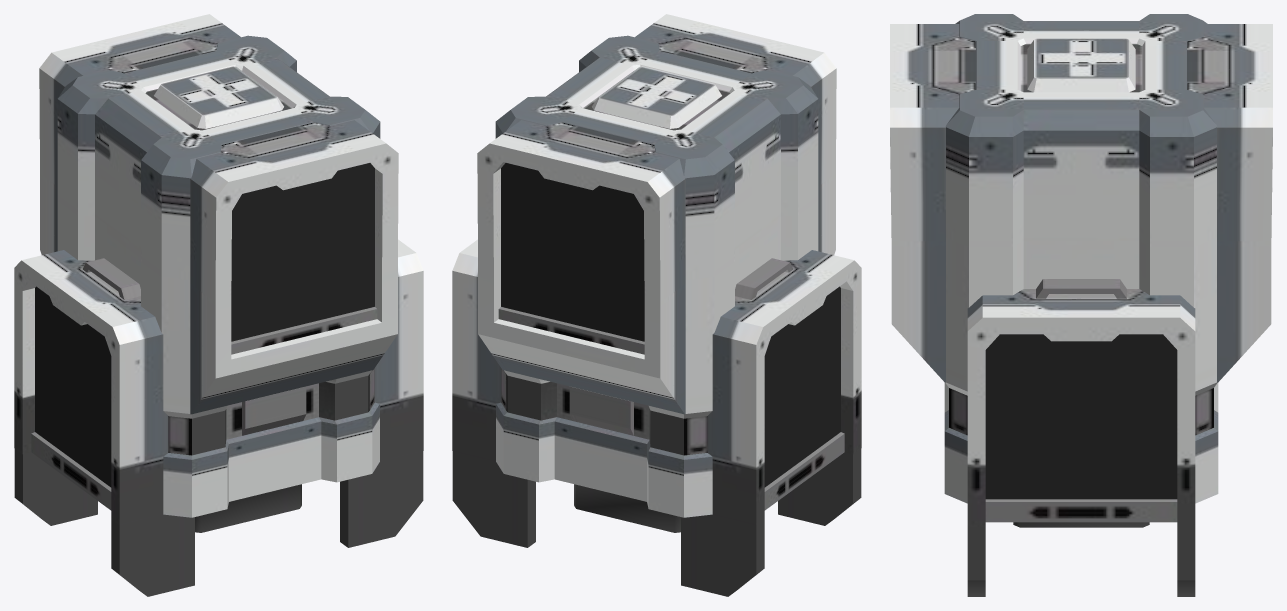
3 renders of one model, left to right at view 1: azimuth 30°, elevation 25°; view 2: azimuth 150°, elevation 25°; view 3: azimuth 270°, elevation 25°, orthographic. The views are drawn at different scales.
Visible parts, largest first — view 1: splitter-c; view 2: splitter-c; view 3: splitter-c.
Boxes of the visible parts, bbox=[...] form: splitter-c: bbox=[14, 14, 423, 596]; splitter-c: bbox=[452, 14, 861, 596]; splitter-c: bbox=[890, 14, 1272, 596].
Bounding box in the file's own units: 2.5 × 3.44 × 2.52.
Materials: 2 (1 with a texture image).
